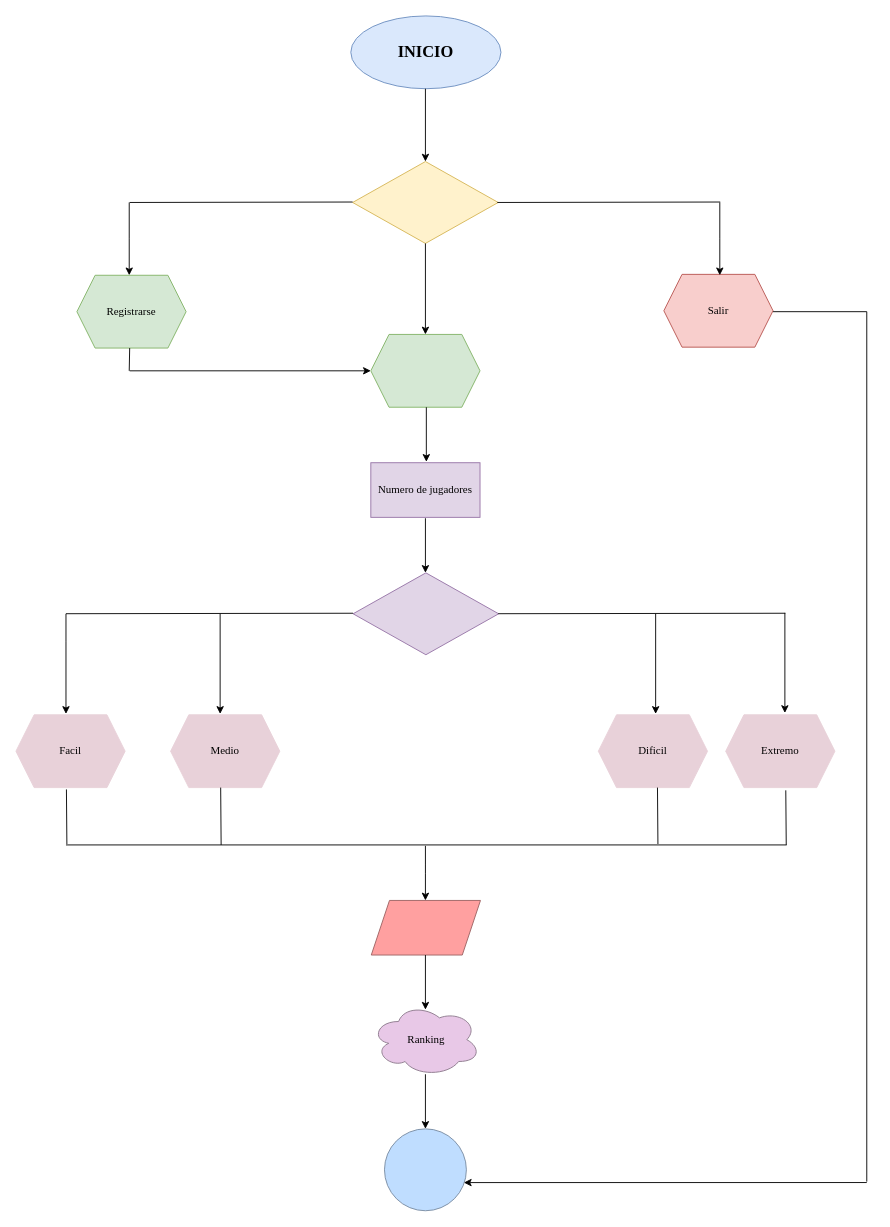
Some shapes in this 890 by 1227 pixel diagram are drawn without their labels. The shapes that lost their labels are listed below. From the top down, each one's box as (x1, y1, x2, y2) in pixels, then its label:
(352, 161, 498, 243): Menu
(370, 334, 480, 407): Iniciar sesion
(352, 572, 499, 655): Seleccion de nivel
(370, 900, 480, 955): Preguntas
(384, 1128, 466, 1211): Fin Programa
